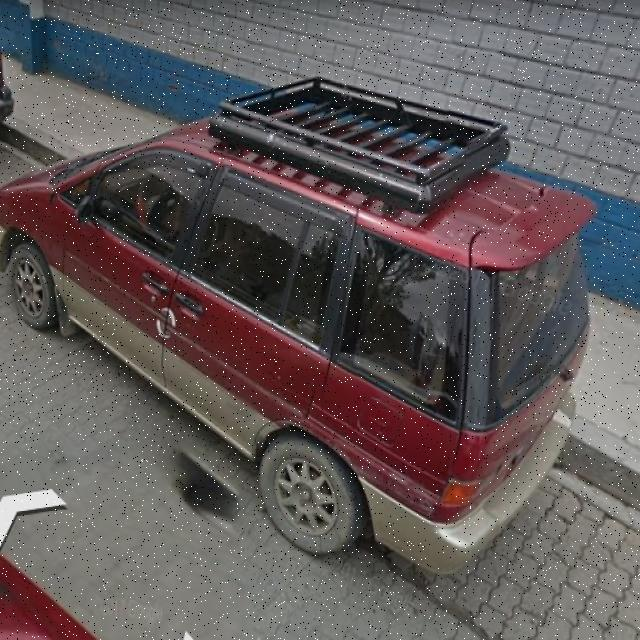cars: (16, 54, 596, 578)
